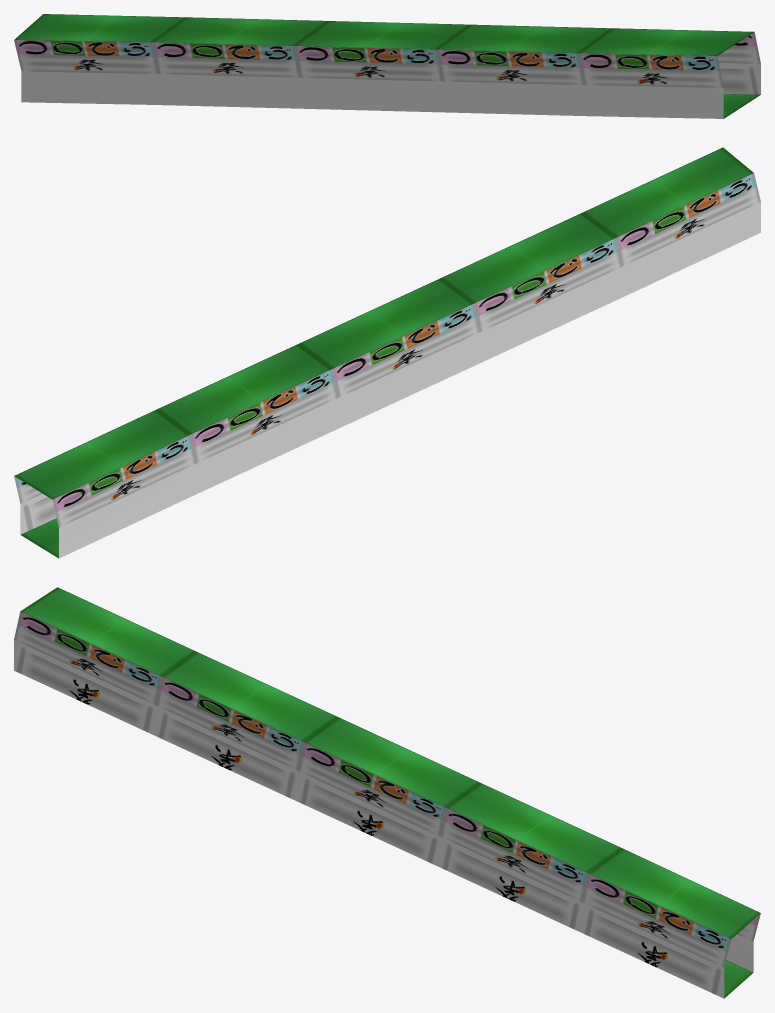
File: CourseSummer_Wall_L_15.fbx
3 renders of one model, top to bottom at view 1: azimuth 90°, elevation 25°; view 2: azimuth 150°, elevation 25°; view 3: azimuth 270°, elevation 25°, orthographic.
Visible parts, largest first — view 1: polySurface80; view 2: polySurface80; view 3: polySurface80.
Part boxes in pixels (x1,y1,x2,y2): polySurface80: [14, 14, 760, 118]; polySurface80: [14, 147, 760, 558]; polySurface80: [14, 587, 760, 998].
Size of the model in its own units: 13.77 by 6.97 by 21.86.
Materials: 1 (1 with a texture image).
